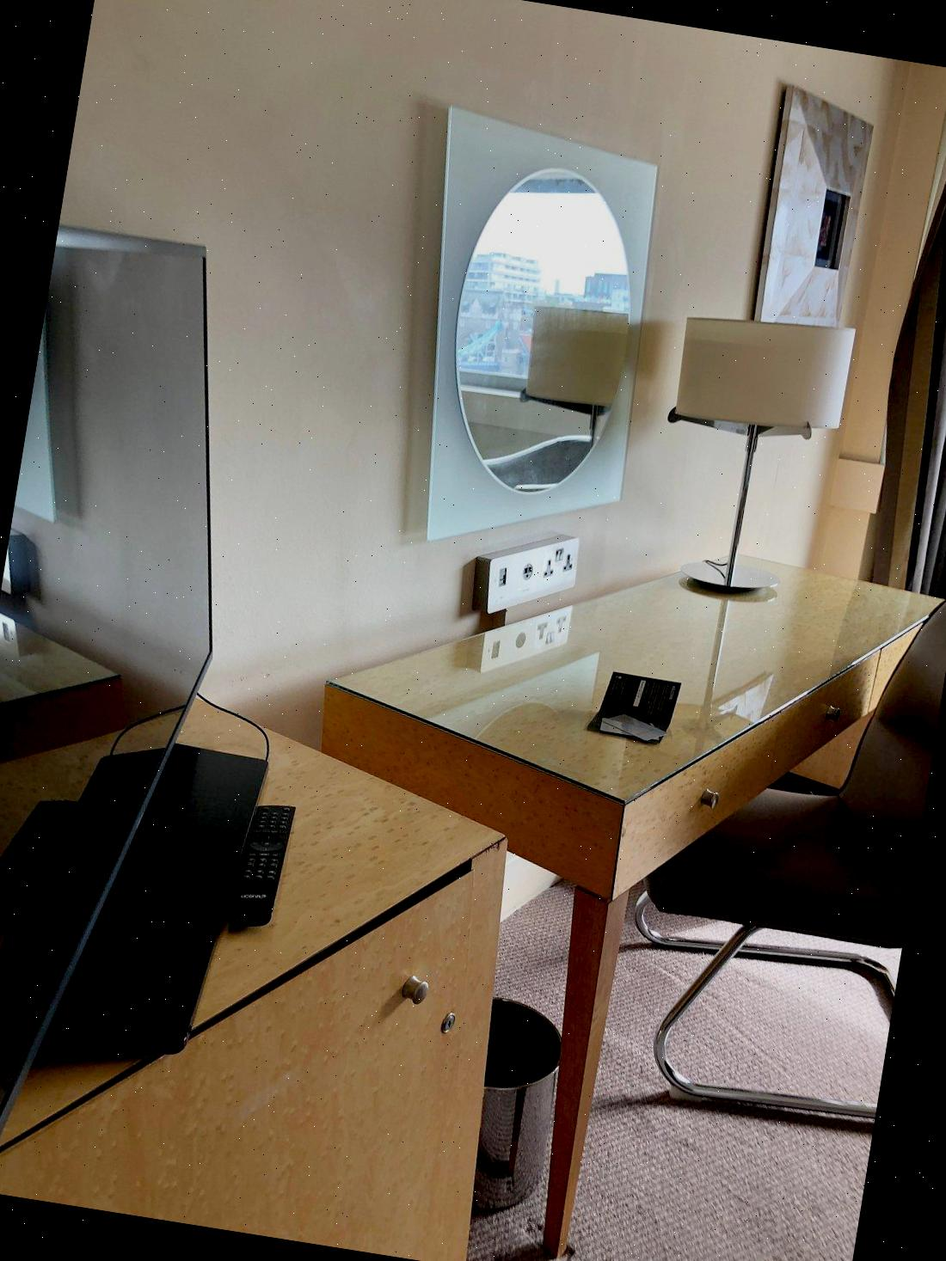chair: (647, 574, 946, 1134)
lamp: (648, 309, 853, 611)
organized table: (324, 510, 922, 823)
